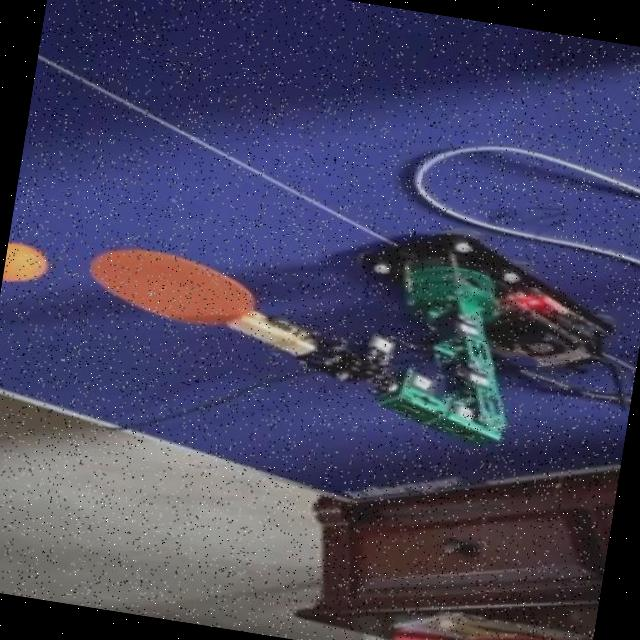ping-pong-ball: (2, 242, 48, 285)
